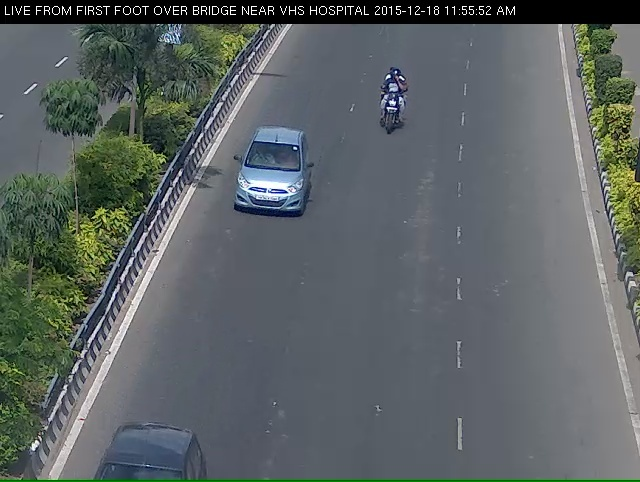Car: (228, 132, 315, 250)
Person: (365, 77, 420, 158)
